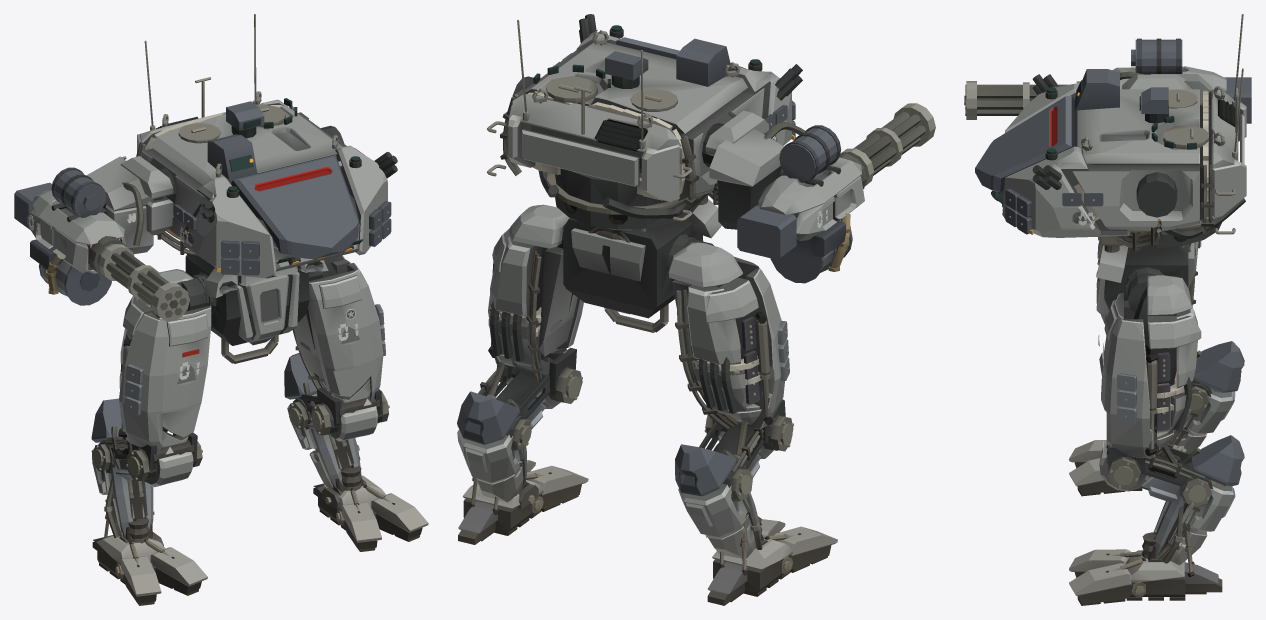
File: rampart-turret.glb
3 views of the same model, side by side, from view 1: azimuth 30°, elevation 25°; view 2: azimuth 150°, elevation 25°; view 3: azimuth 270°, elevation 25° (orthographic). The views are drawn at different scales.
Parts seen in each view (by area): view 1: Part_Torso, Part_Pod_R, Part_Thigh_R, Part_Thigh_L, Part_Pelvis, Part_Foot_R, Part_Foot_L, Part_Cannon_R, Part_Cannon_L, Part_PodSpin_R, Part_Shin_R, Part_Shin_L; view 2: Part_Torso, Part_Pod_R, Part_Thigh_R, Part_Thigh_L, Part_Pelvis, Part_Cannon_R, Part_Foot_R, Part_Cannon_L, Part_Foot_L, Part_PodSpin_R, Part_Shin_L, Part_Shin_R; view 3: Part_Torso, Part_Thigh_L, Part_Foot_L, Part_Cannon_L, Part_Cannon_R, Part_Pod_R, Part_Pelvis, Part_Shin_L, Part_PodSpin_R, Part_Foot_R.
Boxes of the visible parts, x1=… form: Part_Torso: x1=121, y1=14, x2=397, y2=277; Part_Pod_R: x1=14, y1=156, x2=173, y2=305; Part_Thigh_R: x1=118, y1=269, x2=216, y2=469; Part_Thigh_L: x1=292, y1=255, x2=385, y2=426; Part_Pelvis: x1=185, y1=249, x2=328, y2=363; Part_Foot_R: x1=92, y1=477, x2=207, y2=605; Part_Foot_L: x1=313, y1=441, x2=428, y2=551; Part_Cannon_R: x1=91, y1=398, x2=154, y2=541; Part_Cannon_L: x1=284, y1=353, x2=363, y2=491; Part_PodSpin_R: x1=88, y1=236, x2=189, y2=321; Part_Shin_R: x1=101, y1=436, x2=202, y2=487; Part_Shin_L: x1=295, y1=392, x2=389, y2=441; Part_Torso: x1=487, y1=14, x2=802, y2=239; Part_Pod_R: x1=705, y1=110, x2=864, y2=283; Part_Thigh_R: x1=668, y1=237, x2=789, y2=464; Part_Thigh_L: x1=486, y1=204, x2=583, y2=399; Part_Pelvis: x1=563, y1=199, x2=721, y2=332; Part_Cannon_R: x1=675, y1=444, x2=763, y2=558; Part_Foot_R: x1=707, y1=495, x2=837, y2=605; Part_Cannon_L: x1=457, y1=391, x2=532, y2=502; Part_Foot_L: x1=458, y1=460, x2=588, y2=544; Part_PodSpin_R: x1=840, y1=103, x2=935, y2=188; Part_Shin_L: x1=478, y1=357, x2=582, y2=435; Part_Shin_R: x1=699, y1=413, x2=793, y2=477; Part_Torso: x1=975, y1=14, x2=1246, y2=252; Part_Thigh_L: x1=1098, y1=272, x2=1201, y2=475; Part_Foot_L: x1=1069, y1=505, x2=1222, y2=605; Part_Cannon_L: x1=1148, y1=435, x2=1244, y2=564; Part_Cannon_R: x1=1155, y1=341, x2=1244, y2=460; Part_Pod_R: x1=1112, y1=38, x2=1251, y2=123; Part_Pelvis: x1=1096, y1=236, x2=1195, y2=316; Part_Shin_L: x1=1099, y1=441, x2=1204, y2=503; Part_PodSpin_R: x1=964, y1=81, x2=1080, y2=119; Part_Foot_R: x1=1069, y1=431, x2=1177, y2=496.
Size of the model in its own units: 4.13 by 5.6 by 2.95.
